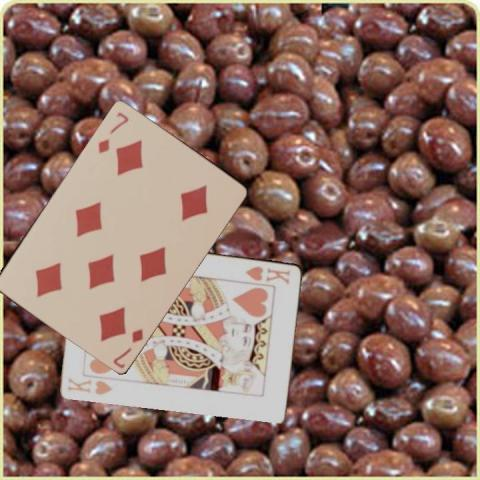7d: (109, 325, 145, 369), (95, 109, 130, 154)
Kh: (65, 373, 114, 396), (243, 263, 292, 285)
